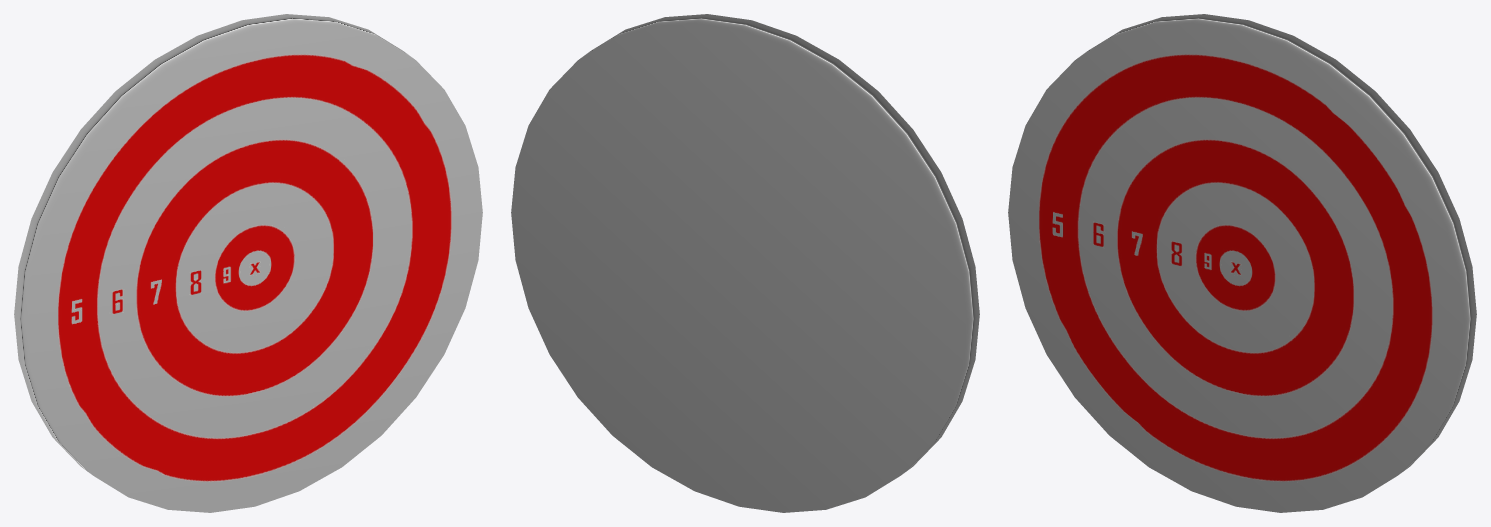
File: intact _target.fbx
3 renders of one model, left to right at view 1: azimuth 30°, elevation 25°; view 2: azimuth 150°, elevation 25°; view 3: azimuth 330°, elevation 25°, orthographic.
Parts seen in each view (by area): view 1: Cylinder, Shooting-Target-PNG-Free-Download-2088271226; view 2: Cylinder; view 3: Cylinder, Shooting-Target-PNG-Free-Download-2088271226.
Boxes of the visible parts, <box> form: Cylinder: <box>14,14,482,512</box>; Shooting-Target-PNG-Free-Download-2088271226: <box>58,54,451,481</box>; Cylinder: <box>511,14,979,512</box>; Cylinder: <box>1008,14,1476,512</box>; Shooting-Target-PNG-Free-Download-2088271226: <box>1039,54,1432,482</box>.
Size of the model in its own units: 200 by 200 by 9.97.
